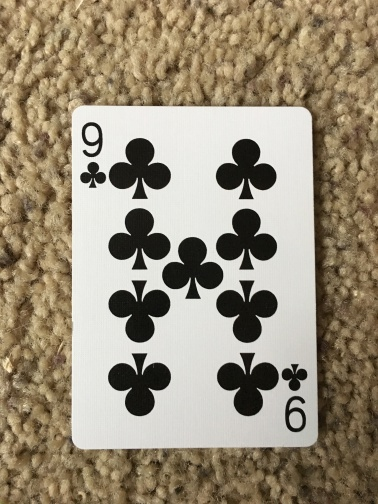nine: (69, 104, 320, 449)
